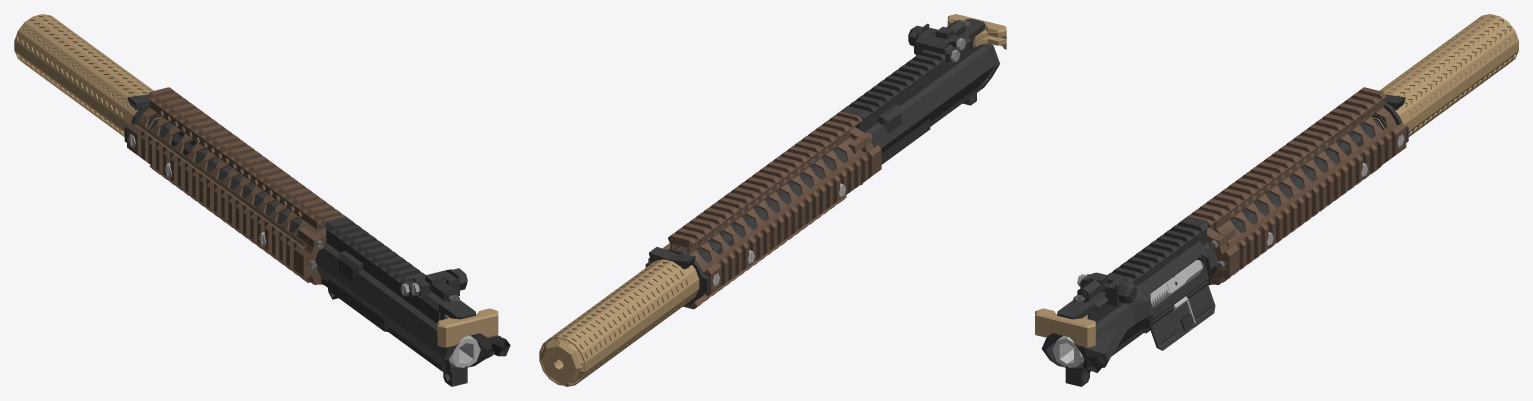
The model's file is example.glb.
The picture shows the model from 3 angles, left to right: view 1: azimuth 30°, elevation 25°; view 2: azimuth 150°, elevation 25°; view 3: azimuth 330°, elevation 25°; orthographic projection. The views are drawn at different scales.
Parts seen in each view (by area): view 1: Mk18_RIS_16, upper_0, suppressor_26, PRI_M84_29, barrel_12, sights_1, bolt_carrier_10, Mk18_RIS_lower_15, rear_sight_4; view 2: Mk18_RIS_16, suppressor_26, upper_0, barrel_12, sights_1, PRI_M84_29, Mk18_RIS_lower_15, rear_sight_4; view 3: Mk18_RIS_16, upper_0, suppressor_26, dustcover_9, bolt_carrier_10, PRI_M84_29, barrel_12, sights_1, rear_sight_4.
Boxes of the visible parts, <box> form: Mk18_RIS_16: <box>127,87,345,284</box>; upper_0: <box>315,216,501,386</box>; suppressor_26: <box>14,14,178,142</box>; PRI_M84_29: <box>437,308,498,347</box>; barrel_12: <box>150,119,323,272</box>; sights_1: <box>400,268,467,296</box>; bolt_carrier_10: <box>449,335,480,367</box>; Mk18_RIS_lower_15: <box>149,162,310,282</box>; rear_sight_4: <box>425,273,459,302</box>; Mk18_RIS_16: <box>648,111,881,296</box>; suppressor_26: <box>539,247,709,386</box>; upper_0: <box>841,18,999,184</box>; barrel_12: <box>697,143,846,262</box>; sights_1: <box>908,23,965,62</box>; PRI_M84_29: <box>947,14,1006,49</box>; Mk18_RIS_lower_15: <box>677,167,846,309</box>; rear_sight_4: <box>936,20,969,39</box>; Mk18_RIS_16: <box>1187,87,1406,285</box>; upper_0: <box>1041,216,1217,386</box>; suppressor_26: <box>1354,14,1518,142</box>; dustcover_9: <box>1150,281,1215,350</box>; bolt_carrier_10: <box>1052,260,1202,367</box>; PRI_M84_29: <box>1035,308,1095,347</box>; barrel_12: <box>1200,119,1382,272</box>; sights_1: <box>1077,272,1136,306</box>; rear_sight_4: <box>1073,273,1107,302</box>.
Size of the model in its own units: 0.0589 by 0.071 by 0.604.
